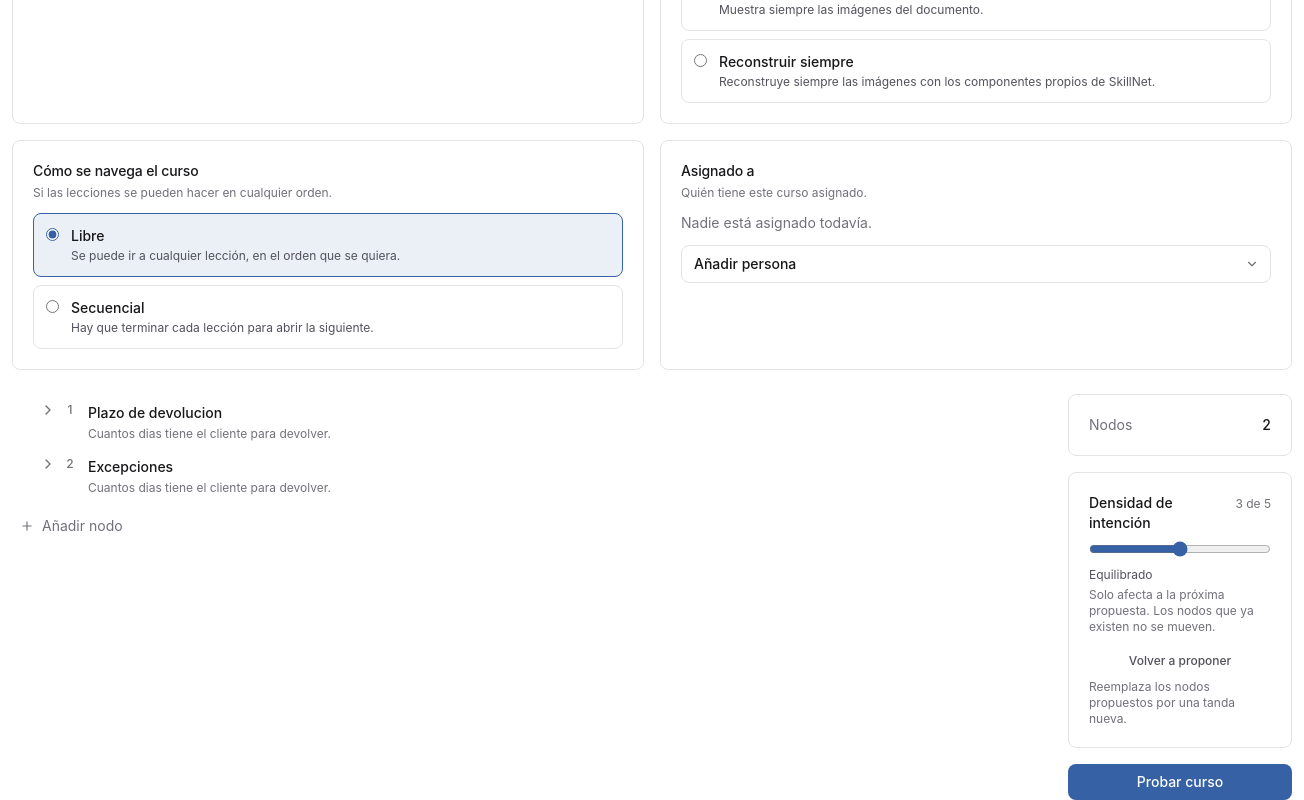
Test: CourseSchema › validation errors › lists every blocking rule at once, naming the offending nodes
(page scrolled)
Expected: the 1st field showing "Plazo de devolucion" is shown, [88,403,1028,423]
Click the button "Probar curso" at (1180, 782), box [1068,764,1292,799]
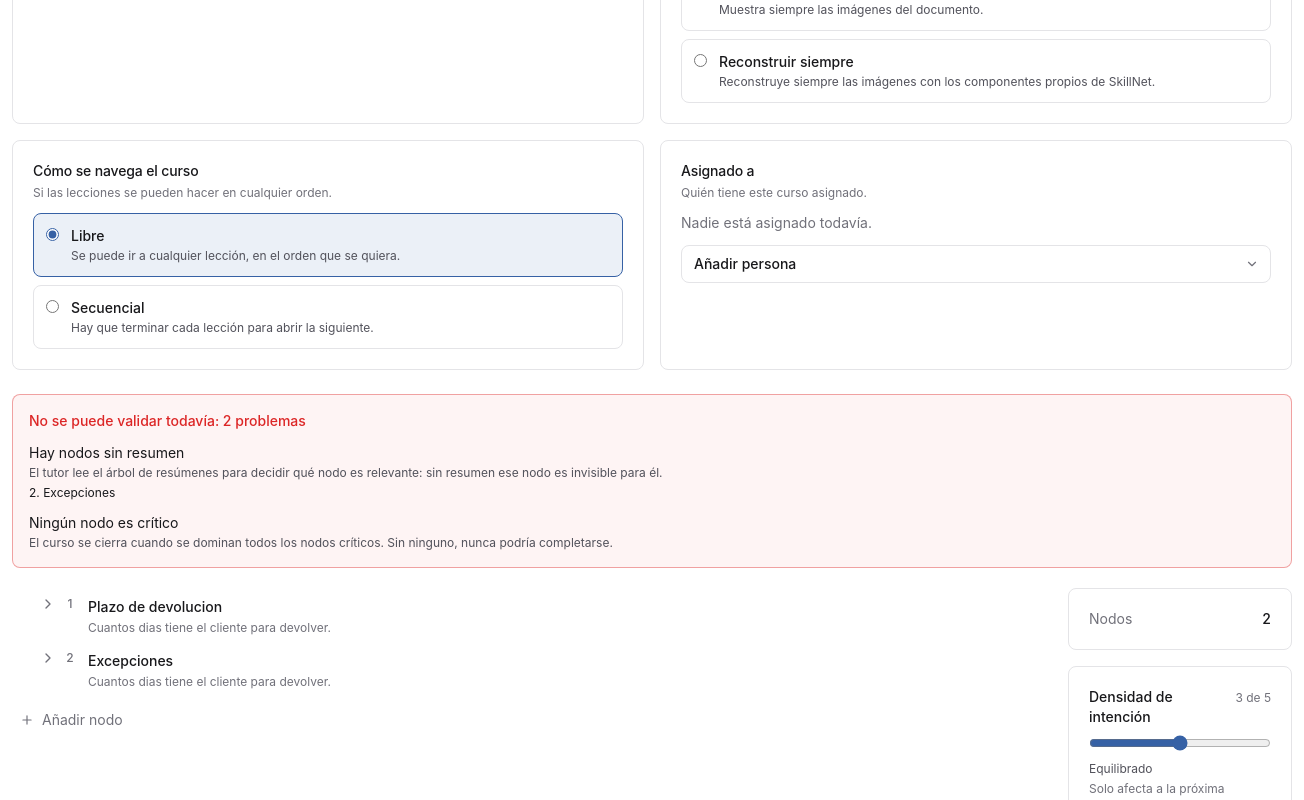
Expected: the text "Hay nodos sin resumen" is shown, [29,444,184,461]
Expected: the text "Ningún nodo es crítico" is shown, [29,514,178,531]
Expected: the list item "2. Excepciones" is shown, [29,485,115,500]
